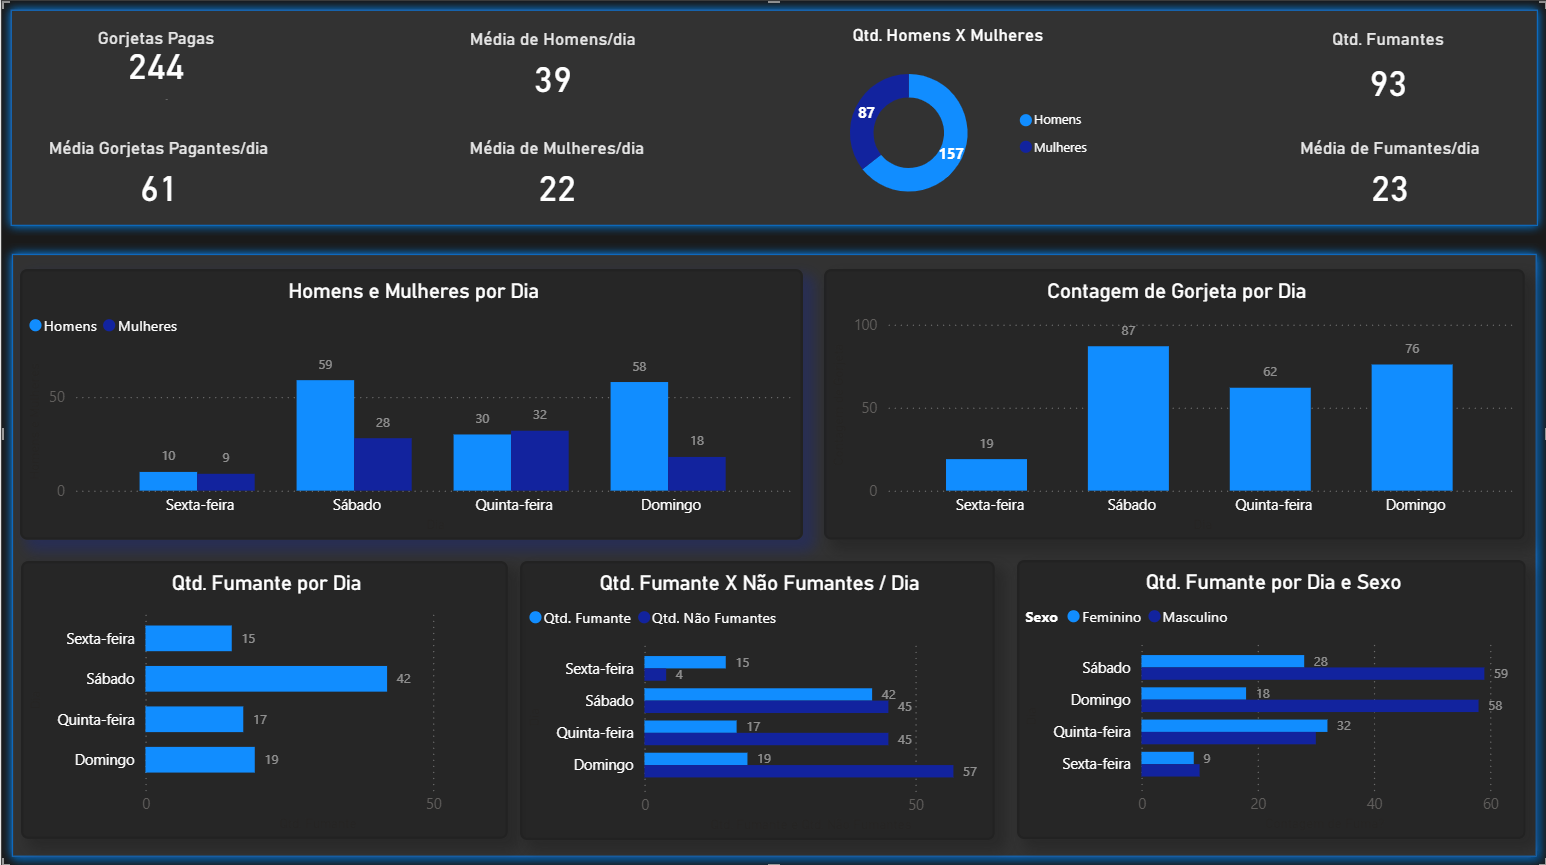

What the dashboard file says about the page in this screenshot:
{"tool":"powerbi","page":{"name":"Quantidades","canvas":[1280,720],"ordinal":0},"visuals":[{"type":"group","id":"g1","title":"Grupo 1","box":[-0.1,-0.1,1280,718],"z":0},{"type":"card","title":"Gorjetas Pagas","fields":{"Values":["CountNonNull(DATABASE - Comportamento de Cliente (Grojetas em restaurantes).Gorjeta)"]},"box":[14.2,22.8,228.7,64.4],"z":0,"group":"g2"},{"type":"shape","box":[-0.1,200.9,1280,517],"z":0,"group":"g1"},{"type":"shape","box":[-0.1,-0.1,1280,195],"z":1000,"group":"g1"},{"type":"card","title":"Qtd. Fumantes","fields":{"Values":["DATABASE - Comportamento de Cliente (Grojetas em restaurantes).Qtd. Fumante"]},"box":[1027.6,24,240.4,70.6],"z":1000,"group":"g2"},{"type":"columnChart","fields":{"Y":["CountNonNull(DATABASE - Comportamento de Cliente (Grojetas em restaurantes).Gorjeta)"],"Category":["DATABASE - Comportamento de Cliente (Grojetas em restaurantes).Dia"]},"box":[681.1,222.2,580,224.4],"z":1000},{"type":"donutChart","title":"Qtd. Homens X Mulheres","fields":{"Y":["DATABASE - Comportamento de Cliente (Grojetas em restaurantes).Quantidade de Homens","DATABASE - Comportamento de Cliente (Grojetas em restaurantes).Quantidade de Mulheres"]},"box":[598.5,21.8,348.9,164.4],"z":2000,"group":"g2"},{"type":"clusteredBarChart","title":"Qtd. Fumante por Dia e Sexo","fields":{"Y":["CountNonNull(DATABASE - Comportamento de Cliente (Grojetas em restaurantes).Fuma?)"],"Category":["DATABASE - Comportamento de Cliente (Grojetas em restaurantes).Dia"],"Series":["DATABASE - Comportamento de Cliente (Grojetas em restaurantes).Sexo"]},"box":[840.8,463.8,420.8,230.8],"z":2000},{"type":"card","title":"Média Gorjetas Pagantes/dia","fields":{"Values":["DATABASE - Comportamento de Cliente (Grojetas em restaurantes).Média de Gorjeta por Dia"]},"box":[18.4,114.1,224.5,63.8],"z":3000,"group":"g2"},{"type":"clusteredColumnChart","fields":{"Y":["DATABASE - Comportamento de Cliente (Grojetas em restaurantes).Quantidade de Homens","DATABASE - Comportamento de Cliente (Grojetas em restaurantes).Quantidade de Mulheres"],"Category":["DATABASE - Comportamento de Cliente (Grojetas em restaurantes).Dia"]},"box":[15.6,222.2,647.8,224.4],"z":3000},{"type":"card","title":"Média de Fumantes/dia","fields":{"Values":["DATABASE - Comportamento de Cliente (Grojetas em restaurantes).Média de Fumantes/Dia"]},"box":[1027.7,113.9,243.2,64.4],"z":4000,"group":"g2"},{"type":"clusteredBarChart","fields":{"Y":["DATABASE - Comportamento de Cliente (Grojetas em restaurantes).Qtd. Fumante"],"Category":["DATABASE - Comportamento de Cliente (Grojetas em restaurantes).Dia"]},"box":[16.7,464,402.7,230],"z":4000},{"type":"card","title":"Média de Homens/dia","fields":{"Values":["DATABASE - Comportamento de Cliente (Grojetas em restaurantes).Média de Homens/Dia"]},"box":[344.2,24,224.8,64.4],"z":5000,"group":"g2"},{"type":"card","title":"Média de Mulheres/dia","fields":{"Values":["DATABASE - Comportamento de Cliente (Grojetas em restaurantes).Média de Mulheres/Dia"]},"box":[344.7,113.9,231.8,64.4],"z":6000,"group":"g2"},{"type":"clusteredBarChart","title":"Qtd. Fumante X Não Fumantes / Dia","fields":{"Category":["DATABASE - Comportamento de Cliente (Grojetas em restaurantes).Dia"],"Y":["DATABASE - Comportamento de Cliente (Grojetas em restaurantes).Qtd. Fumante","DATABASE - Comportamento de Cliente (Grojetas em restaurantes).Qtd. Não Fumantes"]},"box":[429.3,464,392.7,230.7],"z":6000},{"type":"group","id":"g2","title":"Cartões de Monitoramento","box":[14.2,21.8,1256.7,164.4],"z":8000}]}

Visuals, with their boxes in screenshot pixels (x1, y1, x2, y2), scaled from the page's 1280x720 canvas onto the 1546x865 screenshot:
"Grupo 1" group: x1=0 y1=0 x2=1545 y2=862
"Gorjetas Pagas" card: x1=17 y1=27 x2=293 y2=105
shape: x1=0 y1=241 x2=1545 y2=862
shape: x1=0 y1=0 x2=1545 y2=234
"Qtd. Fumantes" card: x1=1241 y1=29 x2=1532 y2=114
columnChart - CountNonNull(DATABASE - Comportamento de Cliente (Grojetas em restaurantes).Gorjeta) x DATABASE - Comportamento de Cliente (Grojetas em restaurantes).Dia: x1=823 y1=267 x2=1523 y2=537
"Qtd. Homens X Mulheres" donutChart: x1=723 y1=26 x2=1144 y2=224
"Qtd. Fumante por Dia e Sexo" clusteredBarChart: x1=1016 y1=557 x2=1524 y2=834
"Média Gorjetas Pagantes/dia" card: x1=22 y1=137 x2=293 y2=214
clusteredColumnChart - DATABASE - Comportamento de Cliente (Grojetas em restaurantes).Quantidade de Homens x DATABASE - Comportamento de Cliente (Grojetas em restaurantes).Quantidade de Mulheres: x1=19 y1=267 x2=801 y2=537
"Média de Fumantes/dia" card: x1=1241 y1=137 x2=1535 y2=214
clusteredBarChart - DATABASE - Comportamento de Cliente (Grojetas em restaurantes).Qtd. Fumante x DATABASE - Comportamento de Cliente (Grojetas em restaurantes).Dia: x1=20 y1=557 x2=507 y2=834
"Média de Homens/dia" card: x1=416 y1=29 x2=687 y2=106
"Média de Mulheres/dia" card: x1=416 y1=137 x2=696 y2=214
"Qtd. Fumante X Não Fumantes / Dia" clusteredBarChart: x1=519 y1=557 x2=993 y2=835
"Cartões de Monitoramento" group: x1=17 y1=26 x2=1535 y2=224
